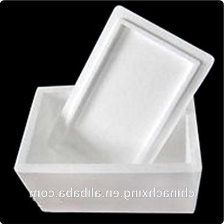foam_box: (11, 2, 217, 217)
